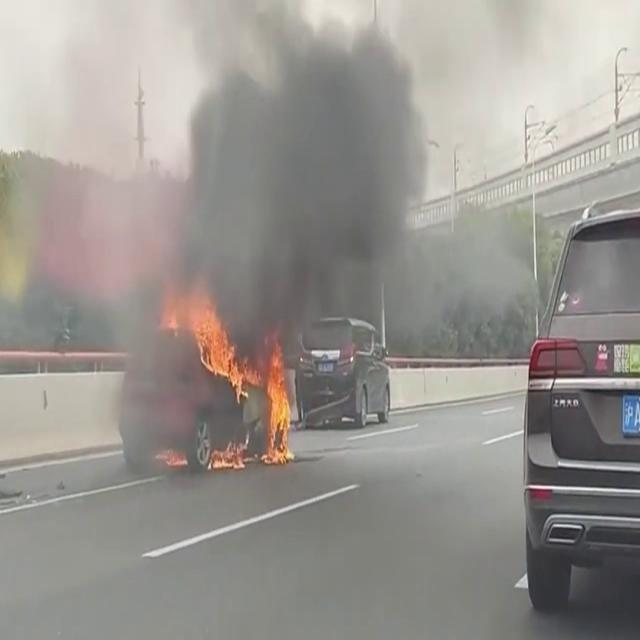accident: (105, 306, 403, 480)
